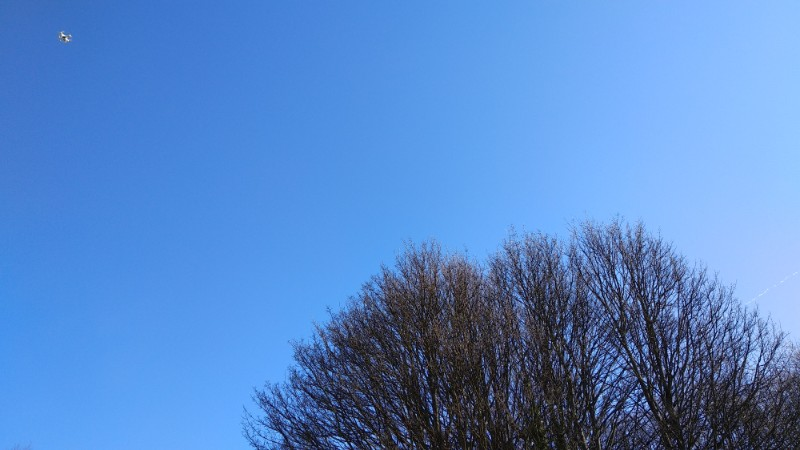drone: (56, 31, 74, 46)
